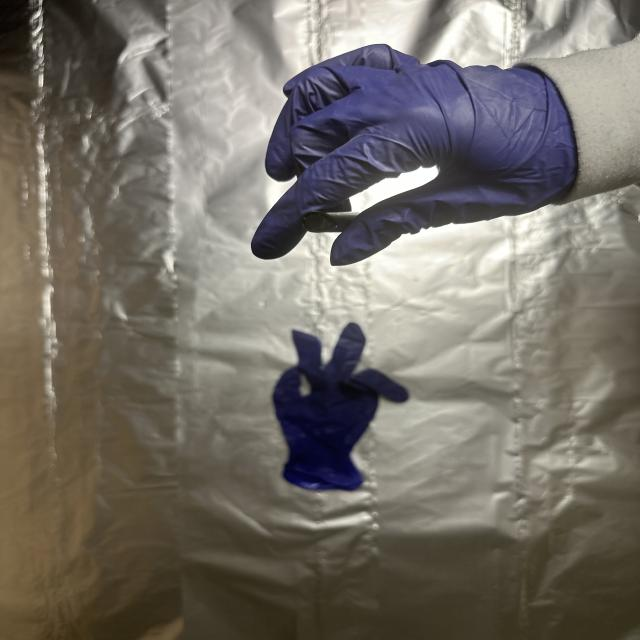gloves_contaminated: (252, 45, 577, 265)
